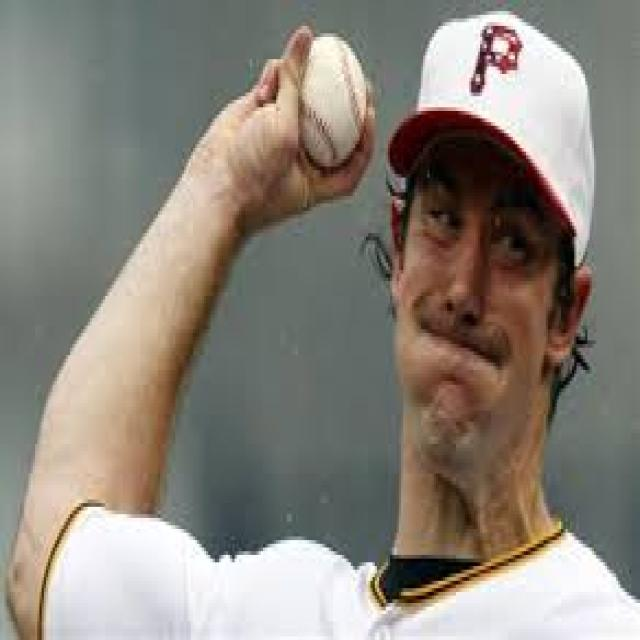3_gorra: (385, 8, 597, 267)
